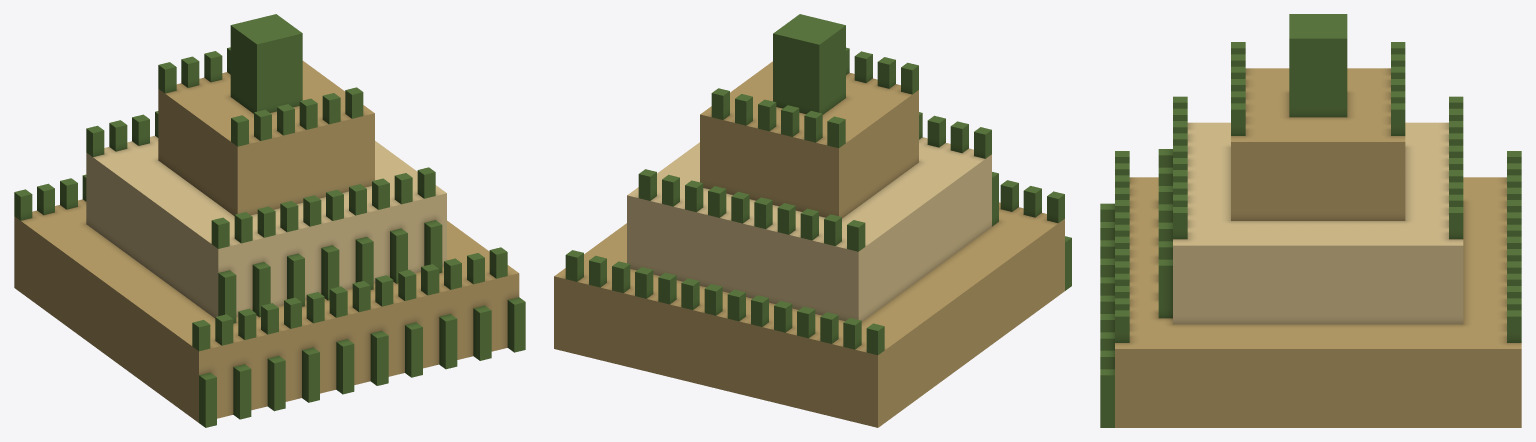
File: w_gardens.glb
3 views of the same model, side by side, from view 1: azimuth 30°, elevation 25°; view 2: azimuth 150°, elevation 25°; view 3: azimuth 270°, elevation 25° (orthographic). The views are drawn at different scales.
Parts seen in each view (by area): view 1: w_gardens_body; view 2: w_gardens_body; view 3: w_gardens_body.
Boxes of the visible parts, x1,y1,x2,y2 form: w_gardens_body: (14, 14, 525, 427); w_gardens_body: (554, 14, 1071, 427); w_gardens_body: (1100, 14, 1521, 427).
Bounding box in the file's own units: 1.75 × 1.5 × 1.81.
1 material, 1 textured.
